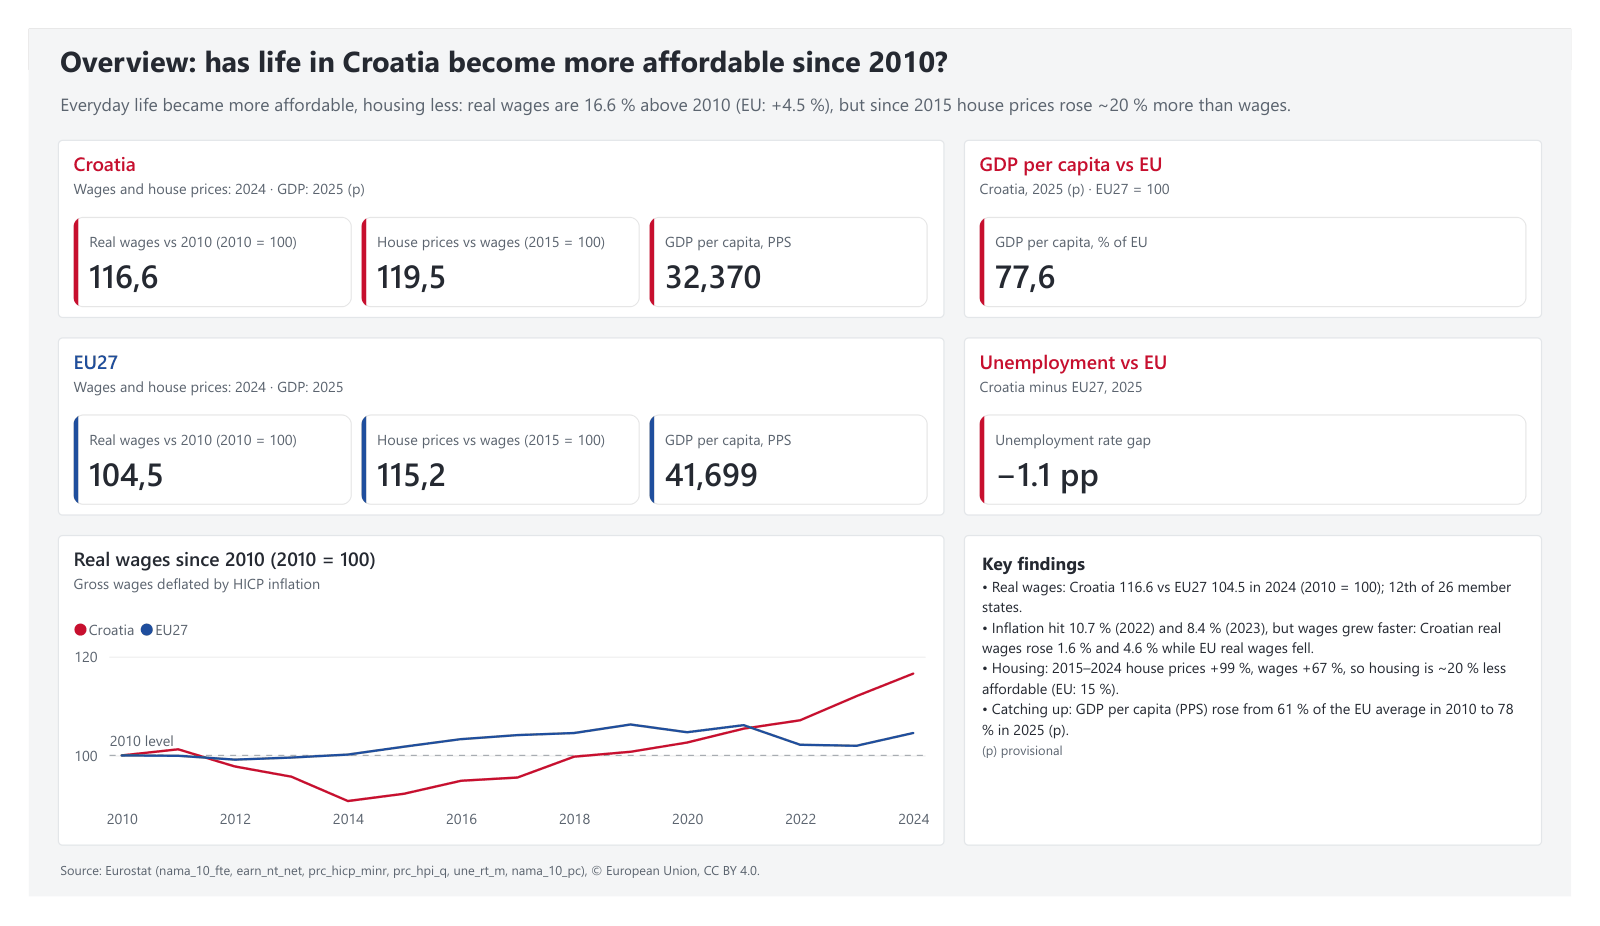

The page's visual inventory and layout, read from the dashboard file:
{"tool":"powerbi","page":{"name":"Overview","canvas":[1280,720],"ordinal":0},"visuals":[{"type":"textbox","box":[24,10,1232,40],"z":1000},{"type":"textbox","box":[24,52,1232,30],"z":2000},{"type":"cardVisual","title":"Croatia","fields":{"Data":["_Measures.Real Wage Index (latest)","_Measures.Housing Affordability Ratio (latest)","_Measures.GDP per Capita Text"]},"box":[24,92,736,148],"z":3000},{"type":"cardVisual","title":"EU27","fields":{"Data":["_Measures.Real Wage Index (latest)","_Measures.Housing Affordability Ratio (latest)","_Measures.GDP per Capita Text"]},"box":[24,256,736,148],"z":4000},{"type":"cardVisual","title":"GDP per capita vs EU","fields":{"Data":["_Measures.Croatia vs EU Index"]},"box":[776,92,480,148],"z":5000},{"type":"cardVisual","title":"Unemployment vs EU","fields":{"Data":["_Measures.Croatia - EU Gap Text"]},"box":[776,256,480,148],"z":6000},{"type":"lineChart","title":"Real wages since 2010 (2010 = 100)","fields":{"Category":["bi_dim_year.year"],"Y":["_Measures.Real Wage Index 2010"],"Series":["bi_dim_country.country_short_name"]},"box":[24,420,736,258],"z":7000},{"type":"textbox","box":[776,420,480,258],"z":8000},{"type":"textbox","box":[24,688,1232,24],"z":9000}]}

Visuals, with their boxes in screenshot pixels (x1, y1, x2, y2), scaled from the page's 1280x720 canvas onto the 1600x926 screenshot:
textbox: [x1=30, y1=13, x2=1570, y2=64]
textbox: [x1=30, y1=67, x2=1570, y2=105]
"Croatia" cardVisual: [x1=30, y1=118, x2=950, y2=309]
"EU27" cardVisual: [x1=30, y1=329, x2=950, y2=520]
"GDP per capita vs EU" cardVisual: [x1=970, y1=118, x2=1570, y2=309]
"Unemployment vs EU" cardVisual: [x1=970, y1=329, x2=1570, y2=520]
"Real wages since 2010 (2010 = 100)" lineChart: [x1=30, y1=540, x2=950, y2=872]
textbox: [x1=970, y1=540, x2=1570, y2=872]
textbox: [x1=30, y1=885, x2=1570, y2=916]
